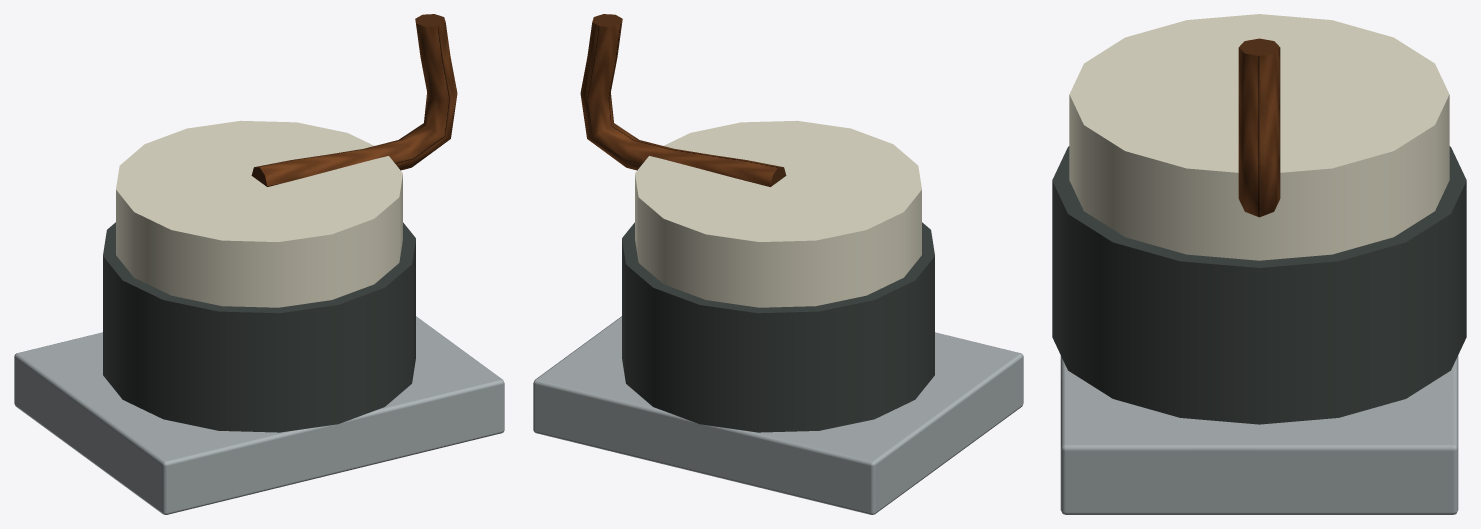
Rendered from survival-food-and-preservation-hand-grain-mill-143c313e__21816.glb.
3 views of the same model, side by side, from view 1: azimuth 30°, elevation 25°; view 2: azimuth 150°, elevation 25°; view 3: azimuth 270°, elevation 25° (orthographic). The views are drawn at different scales.
Parts seen in each view (by area): view 1: hand-grain-mill; view 2: hand-grain-mill; view 3: hand-grain-mill.
Boxes of the visible parts, box(x1,y1,x2,y2) form: hand-grain-mill: box(14, 14, 504, 514); hand-grain-mill: box(533, 14, 1023, 514); hand-grain-mill: box(1052, 14, 1466, 514).
Size of the model in its own units: 0.3223 by 0.3 by 0.24.
Materials: 4 (1 with a texture image).
